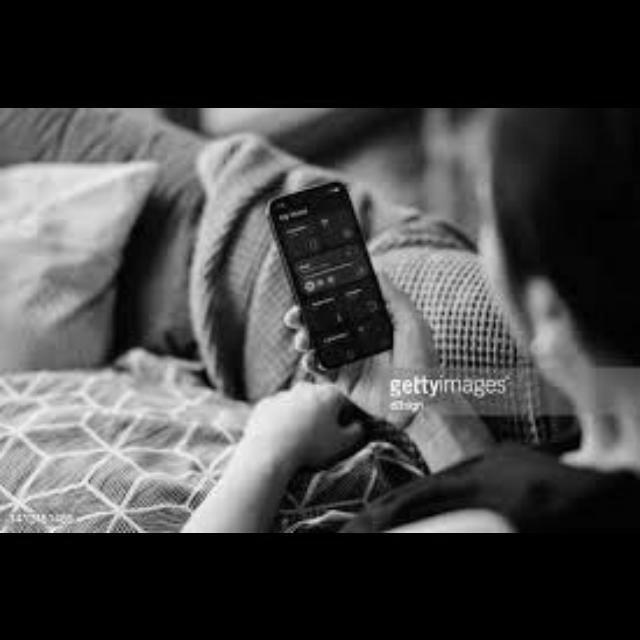fake: (264, 181, 389, 370)
